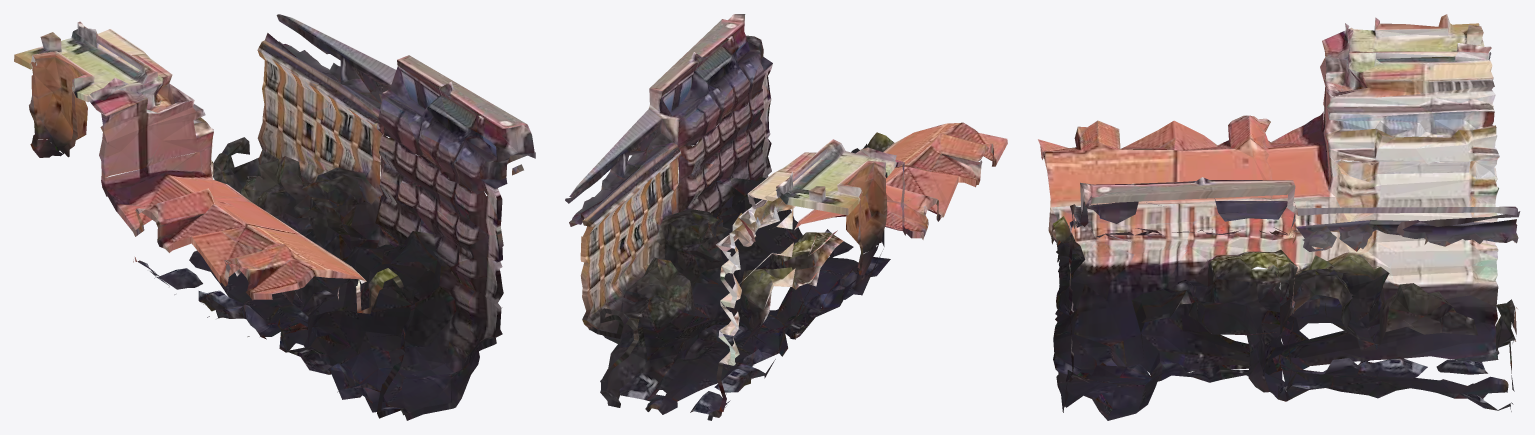
3 renders of one model, left to right at view 1: azimuth 30°, elevation 25°; view 2: azimuth 150°, elevation 25°; view 3: azimuth 270°, elevation 25°, orthographic. The views are drawn at different scales.
Visible parts, largest first — view 1: Mesh_0; view 2: Mesh_0; view 3: Mesh_0.
Boxes of the visible parts, <box> form: Mesh_0: <box>14,14,535,420</box>; Mesh_0: <box>565,14,1007,420</box>; Mesh_0: <box>1038,14,1520,420</box>.
Bounding box in the file's own units: 33.27 × 27.15 × 41.64.
Materials: 1 (1 with a texture image).
